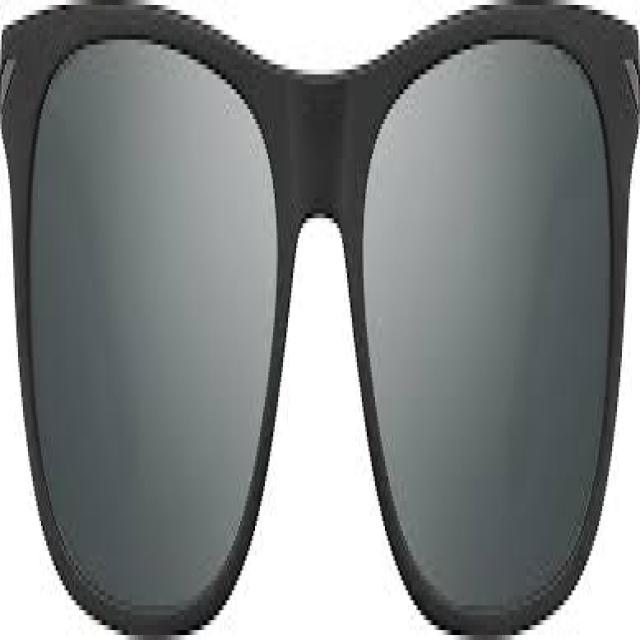sunglasses: (3, 10, 639, 630)
